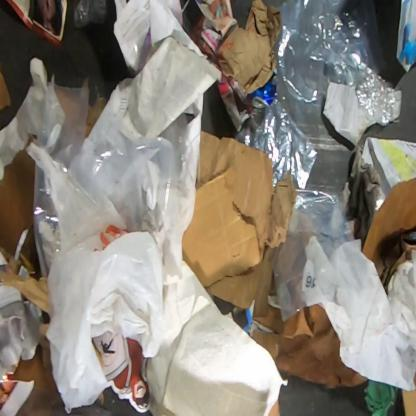cardboard: (182, 130, 368, 388), (0, 149, 50, 317), (217, 0, 282, 94), (363, 178, 415, 289), (0, 70, 12, 113), (401, 388, 416, 416)
metal: (248, 80, 276, 108)
soft_plastic: (32, 82, 188, 411), (234, 0, 403, 189), (267, 189, 416, 391), (72, 0, 108, 28)
